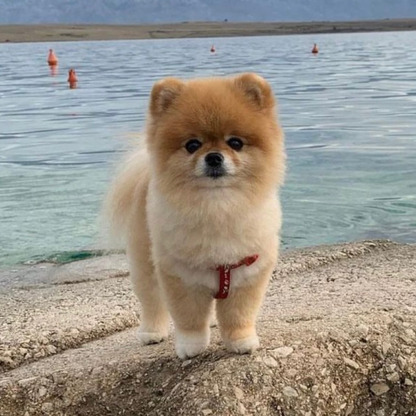Pomeranian: (96, 73, 310, 360)
